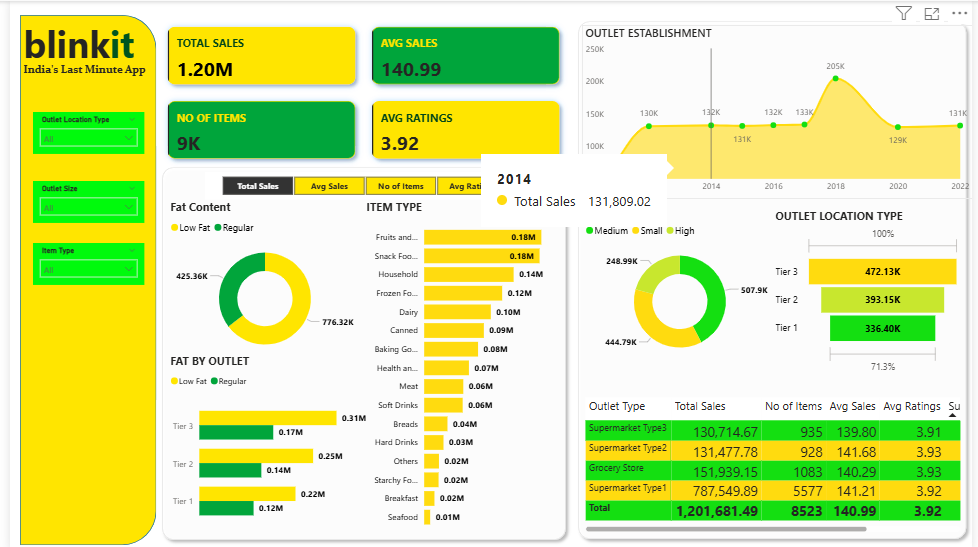

The dashboard page shown, as its layout file describes it:
{"tool":"powerbi","page":{"name":"Page 1","canvas":[1400,800],"ordinal":0},"visuals":[{"type":"shape","box":[14.4,20.8,198.4,771.2],"z":0},{"type":"textbox","box":[14.4,20.8,214.4,83.2],"z":1000},{"type":"textbox","box":[14.4,84.8,214.4,33.6],"z":2000},{"type":"cardVisual","fields":{"Data":["BlinkIT Grocery Data.Total Sales","BlinkIT Grocery Data.Avg Sales","BlinkIT Grocery Data.No of Items","BlinkIT Grocery Data.Avg Ratings"]},"box":[212.8,20.8,604.8,227.2],"z":3000},{"type":"shape","box":[212.8,232,604.8,560],"z":4000},{"type":"slicer","fields":{"Values":["Matrics.Matrics"]},"box":[283.2,248,464,40],"z":5000},{"type":"donutChart","title":"Fat Content","fields":{"Y":["BlinkIT Grocery Data.Total Sales"],"Category":["BlinkIT Grocery Data.Item Fat Content"]},"box":[228.8,288,284.8,240],"z":6000},{"type":"clusteredBarChart","title":"FAT BY OUTLET","fields":{"Y":["BlinkIT Grocery Data.Total Sales"],"Category":["BlinkIT Grocery Data.Outlet Location Type"],"Series":["BlinkIT Grocery Data.Item Fat Content"]},"box":[228.8,512,297.6,265.6],"z":7000},{"type":"barChart","title":"ITEM TYPE","fields":{"Y":["BlinkIT Grocery Data.Total Sales"],"Category":["BlinkIT Grocery Data.Item Type"]},"box":[513.6,288,304,489.6],"z":8000},{"type":"shape","box":[817.6,20.8,582.4,771.2],"z":9000},{"type":"lineChart","title":"OUTLET ESTABLISHMENT","fields":{"Y":["BlinkIT Grocery Data.Total Sales"],"Category":["BlinkIT Grocery Data.Outlet Establishment Year"]},"box":[832,35.2,568,252.8],"z":10000},{"type":"donutChart","title":"OUTLET SIZE","fields":{"Y":["BlinkIT Grocery Data.Total Sales"],"Category":["BlinkIT Grocery Data.Outlet Size"]},"box":[832,292.8,284.8,240],"z":11000},{"type":"funnel","title":"OUTLET LOCATION TYPE","fields":{"Category":["BlinkIT Grocery Data.Outlet Location Type"],"Y":["Sum(BlinkIT Grocery Data.Sales)"]},"box":[1108.8,300.8,278.4,246.4],"z":12000},{"type":"pivotTable","fields":{"Rows":["BlinkIT Grocery Data.Outlet Type"],"Values":["BlinkIT Grocery Data.Total Sales","BlinkIT Grocery Data.No of Items","BlinkIT Grocery Data.Avg Sales","BlinkIT Grocery Data.Avg Ratings","Sum(BlinkIT Grocery Data.Item Visibility)"]},"box":[832,571.2,555.2,206.4],"z":13000},{"type":"slicer","fields":{"Values":["BlinkIT Grocery Data.Outlet Location Type"]},"box":[33.6,161.6,161.6,60.8],"z":13001},{"type":"slicer","fields":{"Values":["BlinkIT Grocery Data.Outlet Size"]},"box":[33.6,262.4,161.6,60.8],"z":13002},{"type":"slicer","fields":{"Values":["BlinkIT Grocery Data.Item Type"]},"box":[33.6,352,161.6,60.8],"z":13003}]}

Visuals, with their boxes in screenshot pixels (x1, y1, x2, y2), scaled from the page's 1400x800 canvas onto the 978x547 screenshot:
shape: crop(10, 14, 149, 542)
textbox: crop(10, 14, 160, 71)
textbox: crop(10, 58, 160, 81)
cardVisual - BlinkIT Grocery Data.Total Sales x BlinkIT Grocery Data.Avg Sales: crop(149, 14, 571, 170)
shape: crop(149, 159, 571, 542)
slicer - Matrics.Matrics: crop(198, 170, 522, 197)
"Fat Content" donutChart: crop(160, 197, 359, 361)
"FAT BY OUTLET" clusteredBarChart: crop(160, 350, 368, 532)
"ITEM TYPE" barChart: crop(359, 197, 571, 532)
shape: crop(571, 14, 977, 542)
"OUTLET ESTABLISHMENT" lineChart: crop(581, 24, 977, 197)
"OUTLET SIZE" donutChart: crop(581, 200, 780, 364)
"OUTLET LOCATION TYPE" funnel: crop(775, 206, 969, 374)
pivotTable - BlinkIT Grocery Data.Outlet Type x BlinkIT Grocery Data.Total Sales: crop(581, 391, 969, 532)
slicer - BlinkIT Grocery Data.Outlet Location Type: crop(23, 110, 136, 152)
slicer - BlinkIT Grocery Data.Outlet Size: crop(23, 179, 136, 221)
slicer - BlinkIT Grocery Data.Item Type: crop(23, 241, 136, 282)
